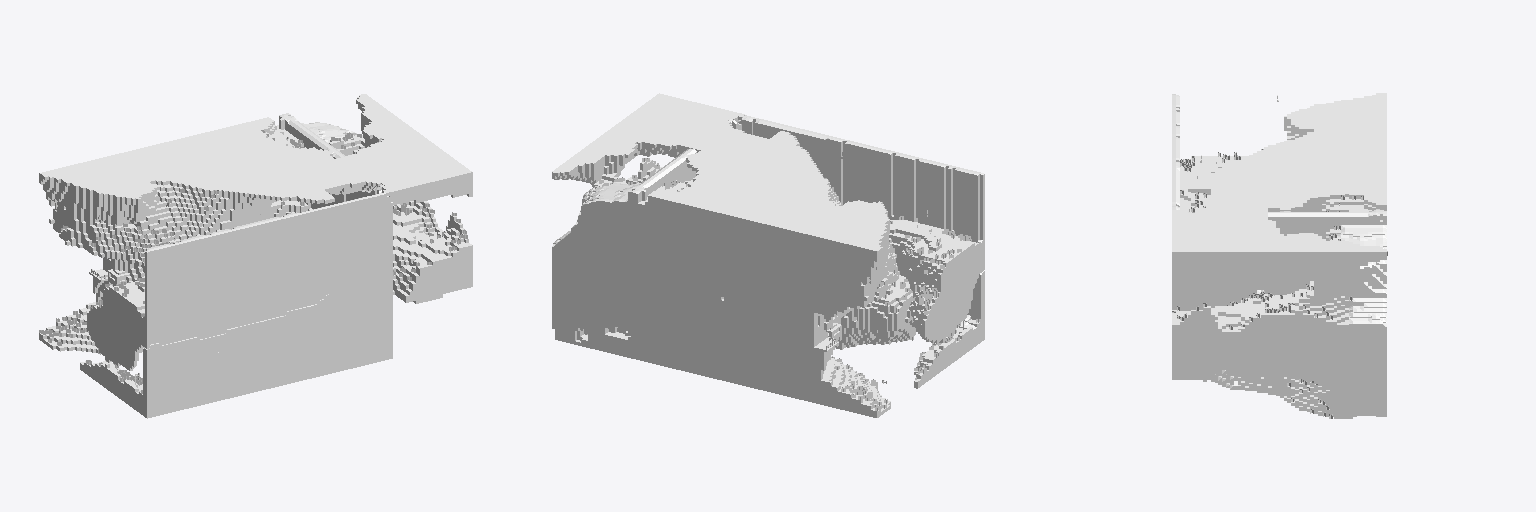
The picture shows the model from 3 angles: view 1: azimuth 30°, elevation 25°; view 2: azimuth 150°, elevation 25°; view 3: azimuth 270°, elevation 25°; orthographic projection.
Parts seen in each view (by area): view 1: Floral_Caves_Hunt__-74_57_-14_to_23_104_41; view 2: Floral_Caves_Hunt__-74_57_-14_to_23_104_41; view 3: Floral_Caves_Hunt__-74_57_-14_to_23_104_41.
Part boxes in pixels (left/top/right/bottom): Floral_Caves_Hunt__-74_57_-14_to_23_104_41: left=39, top=94, right=472, bottom=418; Floral_Caves_Hunt__-74_57_-14_to_23_104_41: left=552, top=93, right=984, bottom=417; Floral_Caves_Hunt__-74_57_-14_to_23_104_41: left=1172, top=93, right=1387, bottom=418.
Bounding box in the file's own units: 98.24 × 48 × 56.12.